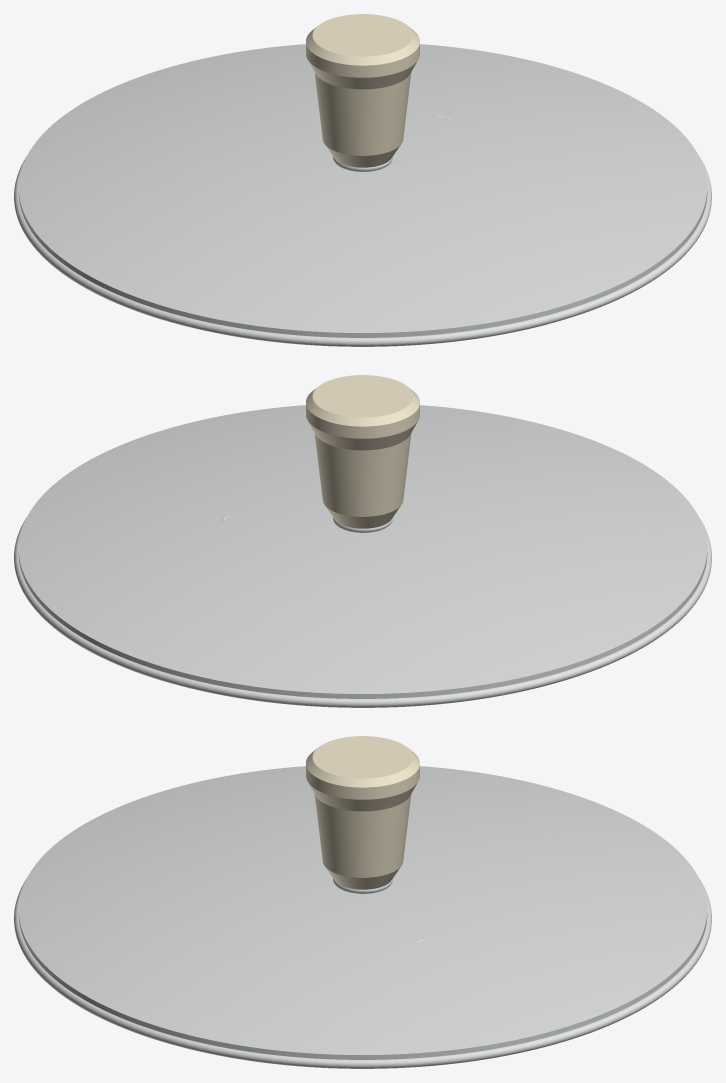
Rendered from lid.glb.
3 views of the same model, one above another, from view 1: azimuth 30°, elevation 25°; view 2: azimuth 150°, elevation 25°; view 3: azimuth 270°, elevation 25° (orthographic).
Visible parts, largest first — view 1: GlassDome_glass, Knob_knob, MetalRim_steel; view 2: GlassDome_glass, Knob_knob, MetalRim_steel; view 3: GlassDome_glass, Knob_knob, MetalRim_steel.
Boxes of the visible parts, x1=… form: GlassDome_glass: x1=18, y1=44, x2=707, y2=337; Knob_knob: x1=306, y1=14, x2=419, y2=167; MetalRim_steel: x1=14, y1=156, x2=711, y2=346; GlassDome_glass: x1=18, y1=405, x2=707, y2=698; Knob_knob: x1=306, y1=375, x2=419, y2=528; MetalRim_steel: x1=14, y1=517, x2=711, y2=707; GlassDome_glass: x1=18, y1=766, x2=707, y2=1059; Knob_knob: x1=306, y1=736, x2=419, y2=889; MetalRim_steel: x1=14, y1=878, x2=711, y2=1068.
Size of the model in its own units: 0.2078 by 0.0544 by 0.2078.
